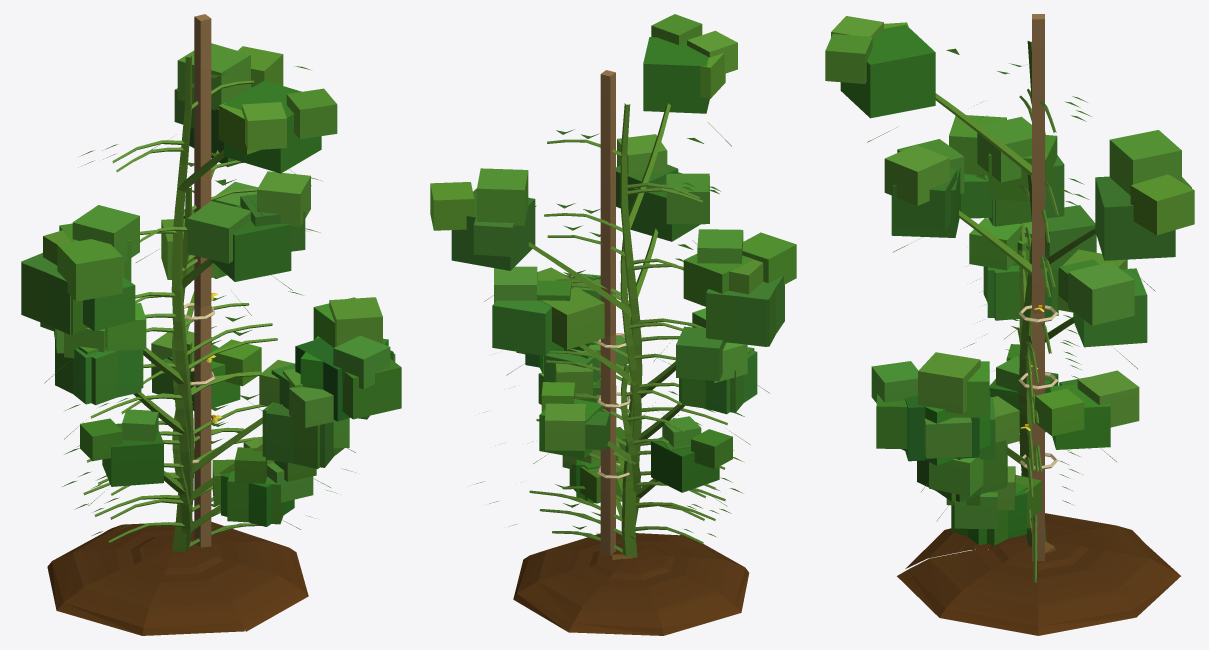
The model's file is tomato.glb.
3 renders of one model, left to right at view 1: azimuth 30°, elevation 25°; view 2: azimuth 150°, elevation 25°; view 3: azimuth 270°, elevation 25°, orthographic. The views are drawn at different scales.
Visible parts, largest first — view 1: stage4_foliage, stage2_soil, stage3_foliage, stage2_foliage, stage3_l1_foliage, stage4_l1_foliage, stage4_stem, stage4_l1_stem, stage4_wood, stage2_wood, stage2_l1_foliage, stage3_stem (+4 smaller); view 2: stage4_foliage, stage3_foliage, stage2_soil, stage2_foliage, stage4_stem, stage4_l1_foliage, stage3_l1_foliage, stage4_wood, stage4_l1_stem, stage3_stem, stage2_wood, stage0_soil (+4 smaller); view 3: stage4_foliage, stage2_soil, stage3_foliage, stage2_foliage, stage4_l1_foliage, stage3_l1_foliage, stage4_stem, stage4_wood, stage0_soil, stage2_wood, stage3_stem, stage4_l1_stem (+1 smaller).
Part boxes in pixels (x1,y1,x2,y2): stage4_foliage: (21,43,401,421); stage2_soil: (47,521,308,635); stage3_foliage: (54,171,349,468); stage2_foliage: (80,331,316,526); stage3_l1_foliage: (40,303,336,467); stage4_l1_foliage: (21,223,390,419); stage4_stem: (83,56,282,551); stage4_l1_stem: (86,58,277,552); stage4_wood: (194,14,211,307); stage2_wood: (194,303,211,547); stage2_l1_foliage: (212,447,283,524); stage3_stem: (94,186,262,550); stage4_foliage: (430,14,796,367); stage3_foliage: (492,134,757,414); stage2_soil: (513,532,749,635); stage2_foliage: (539,382,732,501); stage4_stem: (528,103,727,555); stage4_l1_foliage: (537,254,776,373); stage3_l1_foliage: (555,308,754,427); stage4_wood: (600,70,615,337); stage4_l1_stem: (534,103,725,557); stage3_stem: (540,228,715,534); stage2_wood: (600,333,615,555); stage0_soil: (589,544,674,579); stage4_foliage: (825,16,1194,461); stage2_soil: (897,513,1180,635); stage3_foliage: (884,139,1147,501); stage2_foliage: (946,344,1139,545); stage4_l1_foliage: (871,131,1064,465); stage3_l1_foliage: (917,205,1096,502); stage4_stem: (935,41,1095,555); stage4_wood: (1032,14,1044,313); stage0_soil: (976,529,1088,570); stage2_wood: (1032,313,1044,561); stage3_stem: (959,174,1073,567); stage4_l1_stem: (1007,42,1058,555).
Size of the model in its own units: 0.8123 by 1.29 by 0.7191.
